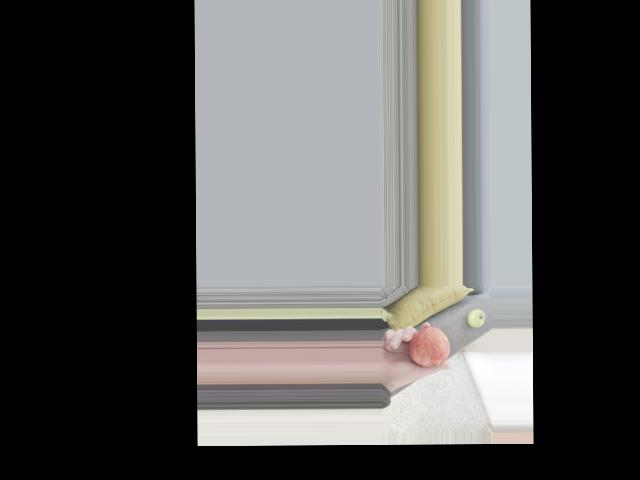apple: (462, 303, 486, 328)
